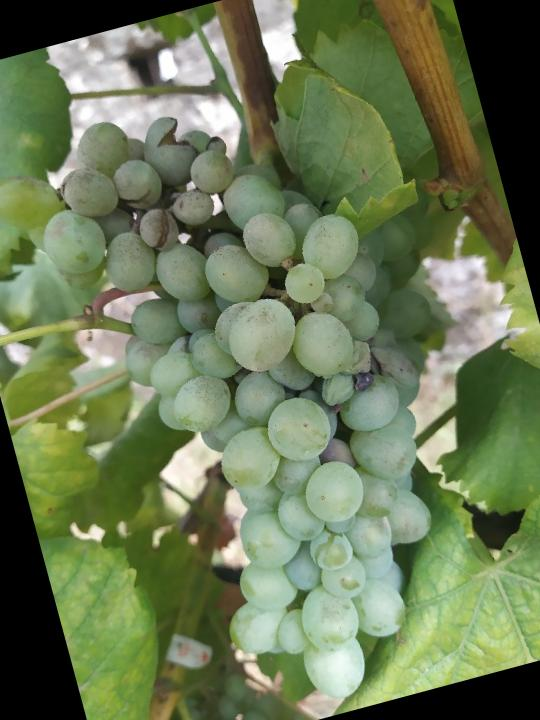grape: (0, 49, 526, 720)
